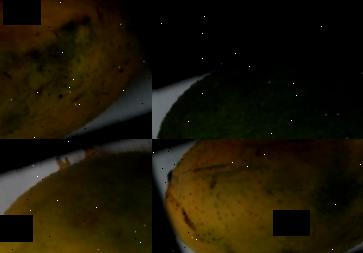PartiallyRipe: (0, 139, 152, 253)
Ripe: (152, 139, 363, 253), (0, 0, 152, 139)
Unripe: (152, 0, 363, 139)
